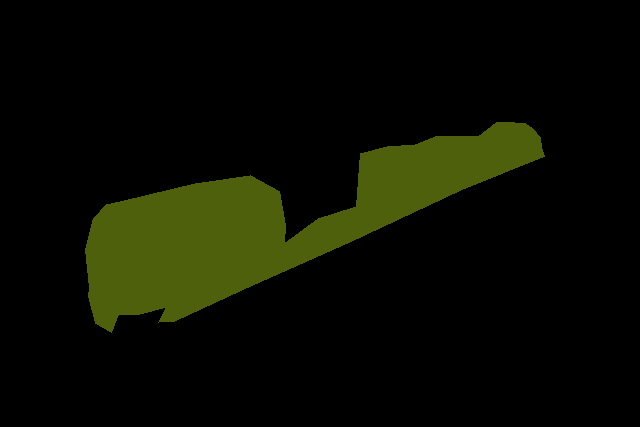Train: (85, 122, 544, 332)
